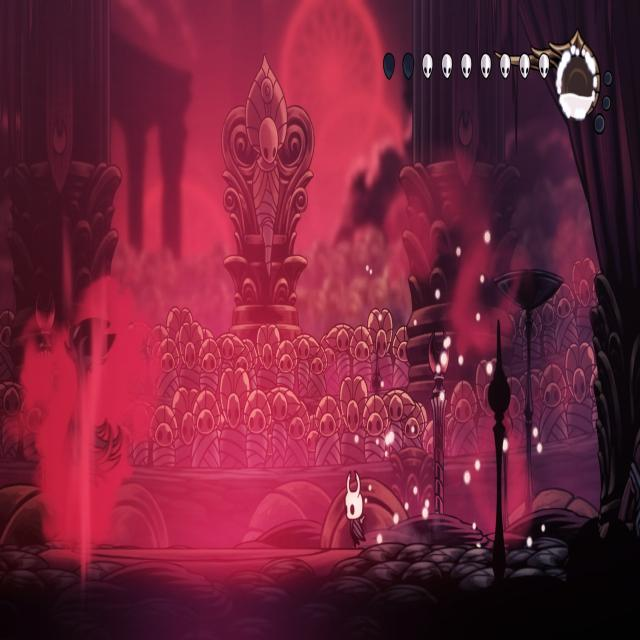Grimm: (56, 311, 125, 542)
Player: (342, 467, 368, 553)
